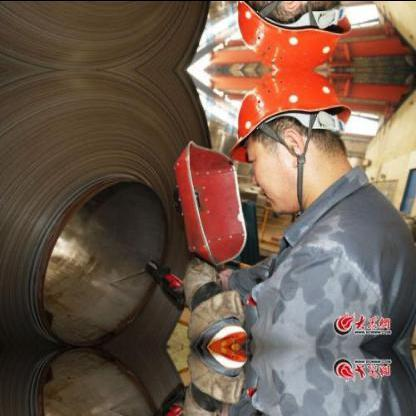Helmet: (226, 69, 350, 213), (226, 0, 350, 68)
